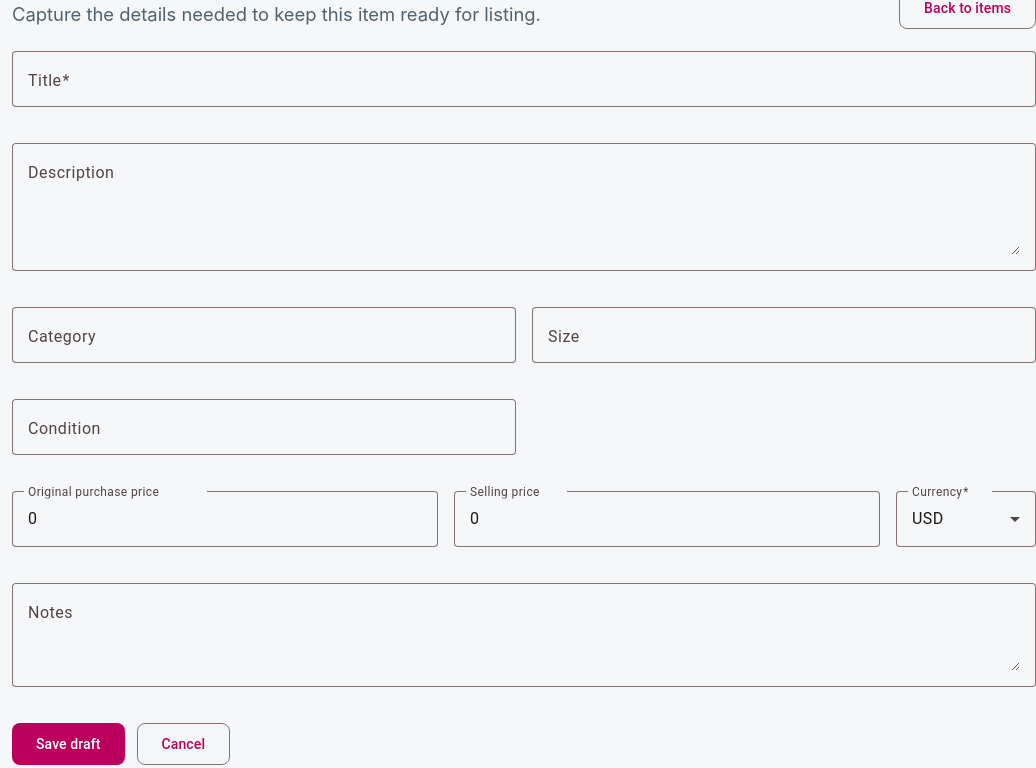
Test case: ItemFormPageComponent › validates title before saving a draft
The width and height of the screenshot is (1036, 768).
(page scrolled)
Click the button with test id "save-draft" at (68, 744), box [12, 723, 125, 765]
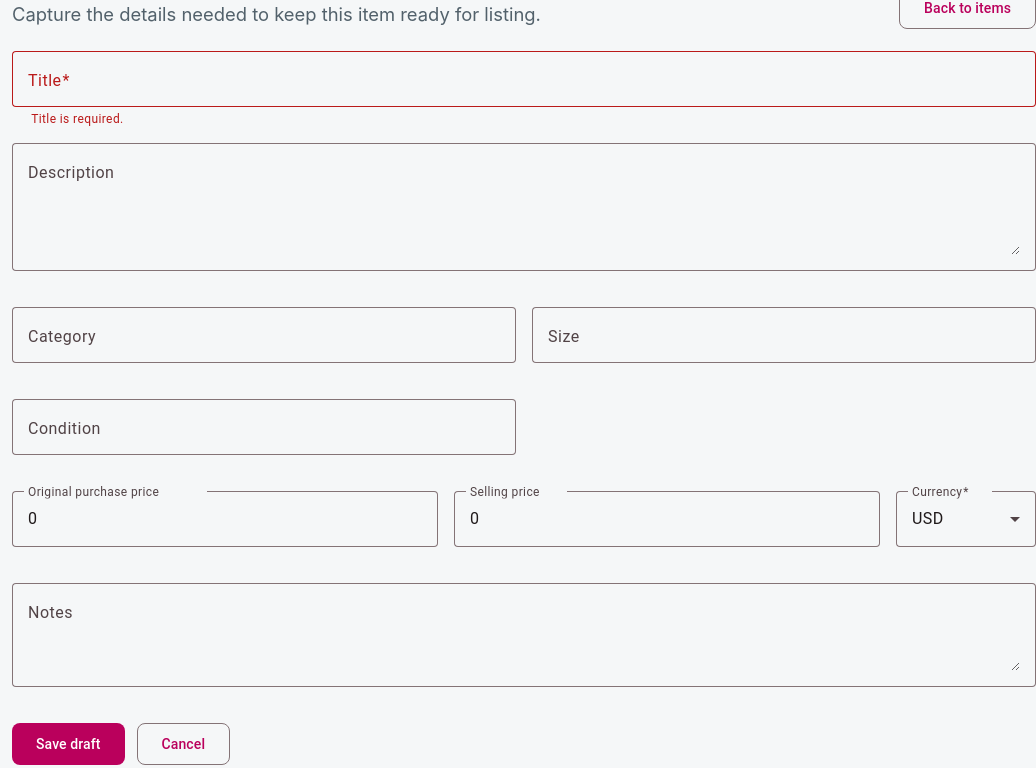
Check: the text "Title is required" is shown, box [28, 112, 124, 126]
